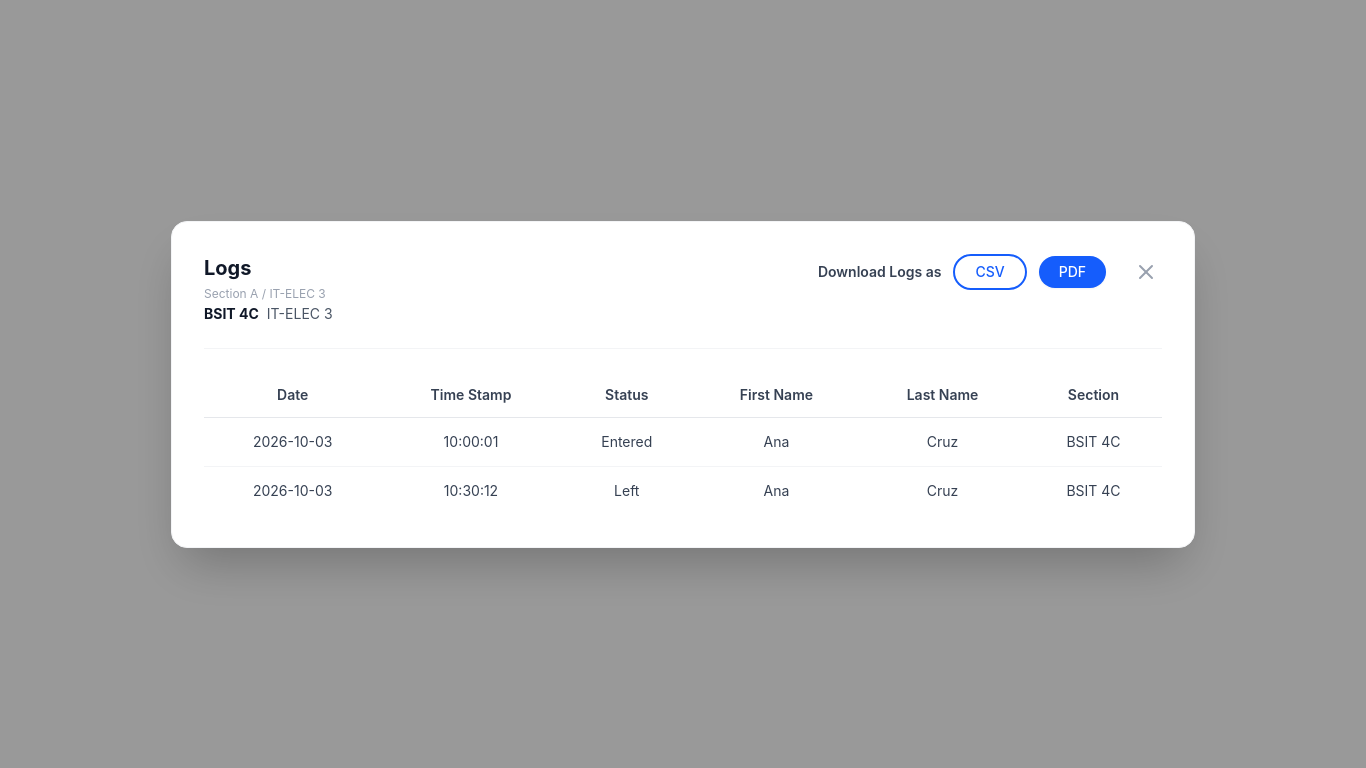
Test: Logs modal › download state and errors › shows the status and server message when the server rejects the request
Click the button "PDF" at point(1072, 272), box [1039,256,1106,288]
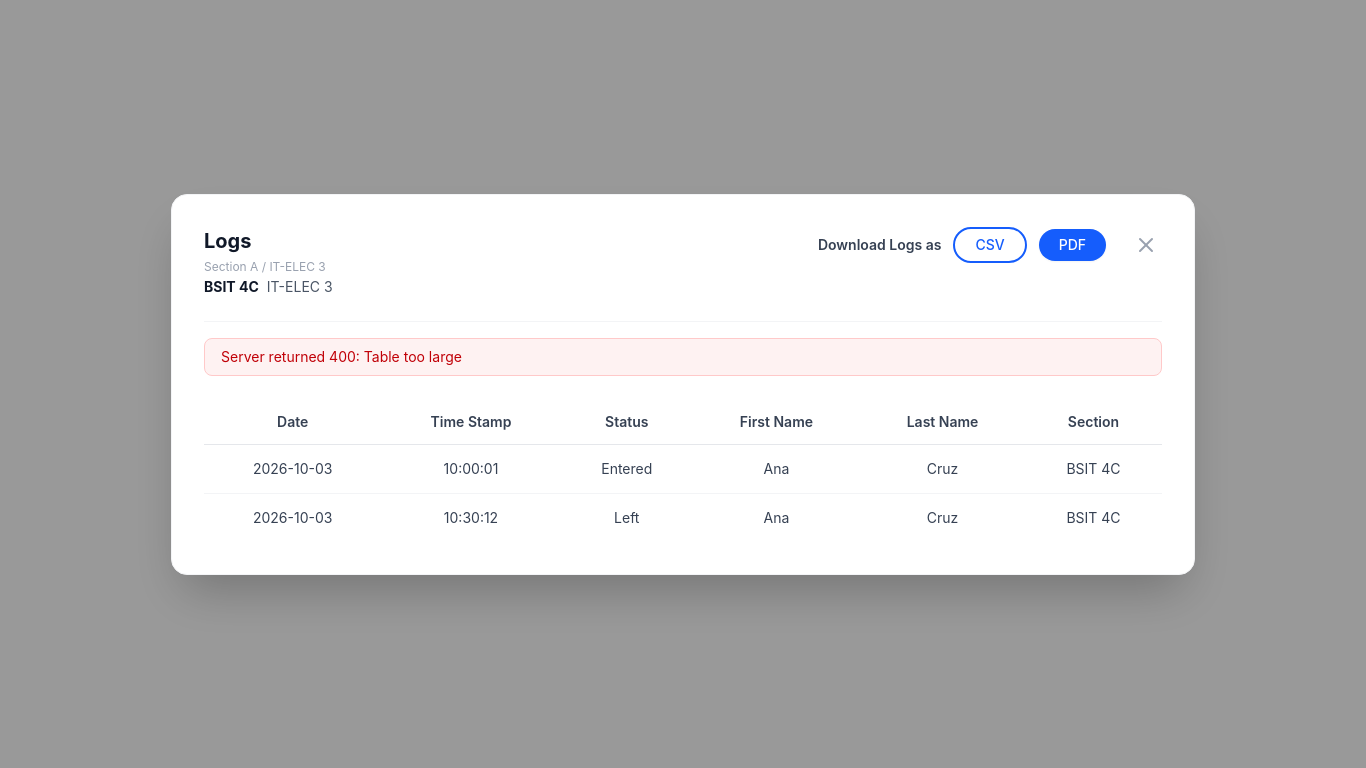
Expected: the button "PDF" is enabled, [1039,228,1106,260]
Expected: the text "Server returned 400: Table too large" is shown, [204,338,1162,376]
